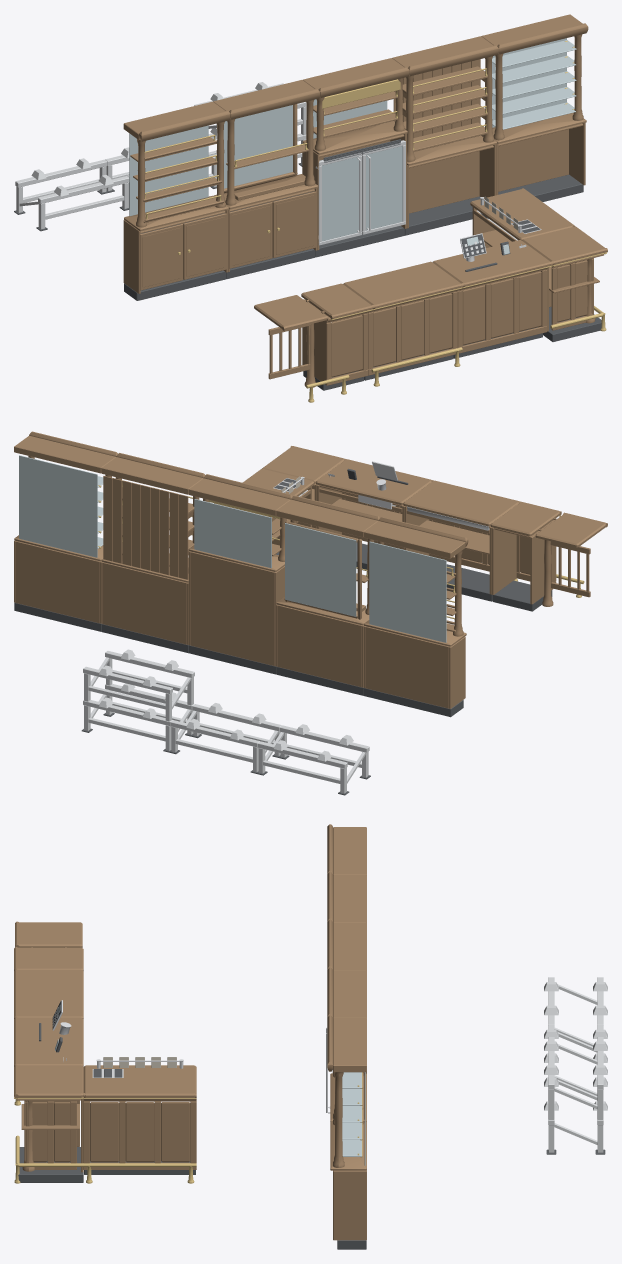
The model's file is bar-pub-and-brewery-taproom-connector-cases-82c82a99__18445.glb.
3 renders of one model, top to bottom at view 1: azimuth 30°, elevation 25°; view 2: azimuth 150°, elevation 25°; view 3: azimuth 270°, elevation 25°, orthographic. The views are drawn at different scales.
Parts seen in each view (by area): view 1: 008-back-bar-spirit-shelf-run/1, 009-back-bar-glass-shelf-run/1, 002-bar-till-position/1, 001-bar-counter-module/1, 005-back-bar-bottle-steps/1, 007-back-bar-fridge-bay/1, 006-back-bar-mirrored-bay/1, 009-back-bar-glass-shelf-run/2, 000-bar-counter-end-flap/1, 003-bar-counter-corner/1, 006-back-bar-mirrored-bay/7, 005-back-bar-bottle-steps/7 (+26 smaller); view 2: 008-back-bar-spirit-shelf-run/1, 007-back-bar-fridge-bay/1, 005-back-bar-bottle-steps/1, 006-back-bar-mirrored-bay/1, 009-back-bar-glass-shelf-run/1, 009-back-bar-glass-shelf-run/2, 005-back-bar-bottle-steps/7, 012-cask-stillage-two-tier/0, 006-back-bar-mirrored-bay/7, 000-bar-counter-end-flap/1, 001-bar-counter-module/1, 007-back-bar-fridge-bay/9 (+15 smaller); view 3: 004-bar-waiter-station/1, 003-bar-counter-corner/1, 009-back-bar-glass-shelf-run/1, 001-bar-counter-module/1, 002-bar-till-position/1, 012-cask-stillage-two-tier/0, 008-back-bar-spirit-shelf-run/1, 007-back-bar-fridge-bay/1, 005-back-bar-bottle-steps/1, 006-back-bar-mirrored-bay/1, 009-back-bar-glass-shelf-run/2, 000-bar-counter-end-flap/lift-flap (+6 smaller).
Part boxes in pixels (box(x1,y1,x2,y2)): 008-back-bar-spirit-shelf-run/1: box(392, 36, 498, 228); 009-back-bar-glass-shelf-run/1: box(481, 14, 588, 195); 002-bar-till-position/1: box(432, 240, 552, 353); 001-bar-counter-module/1: box(343, 261, 463, 375); 005-back-bar-bottle-steps/1: box(123, 101, 230, 293); 007-back-bar-fridge-bay/1: box(302, 58, 409, 250); 006-back-bar-mirrored-bay/1: box(213, 80, 319, 271); 009-back-bar-glass-shelf-run/2: box(492, 38, 576, 129); 000-bar-counter-end-flap/1: box(301, 283, 373, 387); 003-bar-counter-corner/1: box(522, 226, 607, 331); 006-back-bar-mirrored-bay/7: box(223, 105, 292, 188); 005-back-bar-bottle-steps/7: box(129, 125, 208, 216); 008-back-bar-spirit-shelf-run/1: box(101, 453, 205, 644); 007-back-bar-fridge-bay/1: box(188, 474, 292, 666); 005-back-bar-bottle-steps/1: box(363, 517, 468, 708); 006-back-bar-mirrored-bay/1: box(276, 495, 379, 687); 009-back-bar-glass-shelf-run/1: box(14, 431, 117, 623); 009-back-bar-glass-shelf-run/2: box(19, 455, 103, 557); 005-back-bar-bottle-steps/7: box(369, 541, 446, 642); 012-cask-stillage-two-tier/0: box(83, 649, 194, 750); 006-back-bar-mirrored-bay/7: box(285, 523, 356, 616); 000-bar-counter-end-flap/1: box(490, 501, 561, 606); 001-bar-counter-module/1: box(403, 480, 519, 594); 007-back-bar-fridge-bay/9: box(194, 499, 271, 568); 004-bar-waiter-station/1: box(83, 1065, 196, 1169); 003-bar-counter-corner/1: box(14, 1065, 83, 1172); 009-back-bar-glass-shelf-run/1: box(327, 1015, 366, 1240); 001-bar-counter-module/1: box(14, 969, 83, 1018); 002-bar-till-position/1: box(14, 1017, 83, 1066); 012-cask-stillage-two-tier/0: box(544, 1037, 607, 1152); 008-back-bar-spirit-shelf-run/1: box(327, 967, 366, 1121); 007-back-bar-fridge-bay/1: box(327, 919, 366, 1073); 005-back-bar-bottle-steps/1: box(327, 824, 366, 874); 006-back-bar-mirrored-bay/1: box(327, 872, 366, 922); 009-back-bar-glass-shelf-run/2: box(342, 1072, 365, 1165); 000-bar-counter-end-flap/lift-flap: box(15, 921, 82, 947).
Size of the model in its own units: 6.01 by 2.2 by 6.31.
